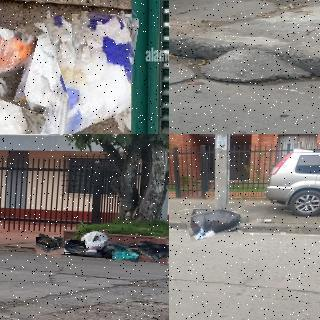Garbage: (5, 17, 104, 134), (67, 12, 135, 134), (0, 26, 34, 100), (185, 203, 250, 238), (137, 241, 169, 264), (78, 229, 111, 251), (35, 235, 65, 256), (103, 243, 135, 257), (112, 247, 139, 262), (65, 240, 85, 255)
